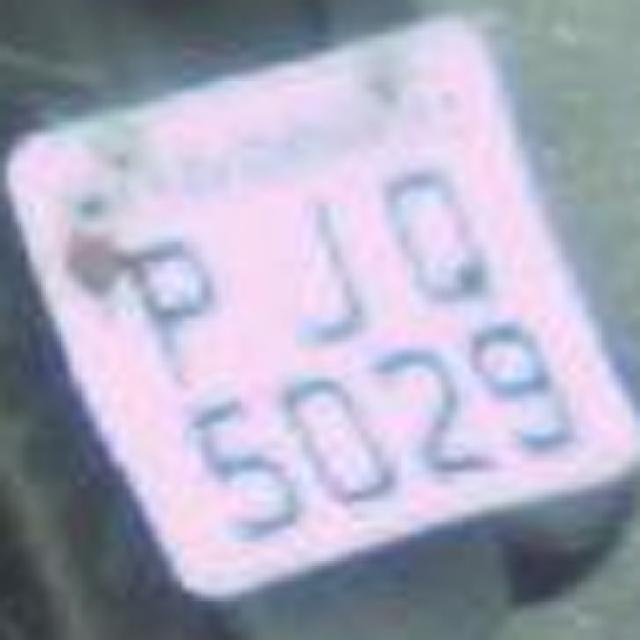0: (260, 348, 415, 520)
2: (345, 320, 520, 495)
5: (164, 372, 316, 560)
9: (444, 296, 596, 472)
J: (256, 172, 396, 356)
P: (92, 212, 236, 388)
